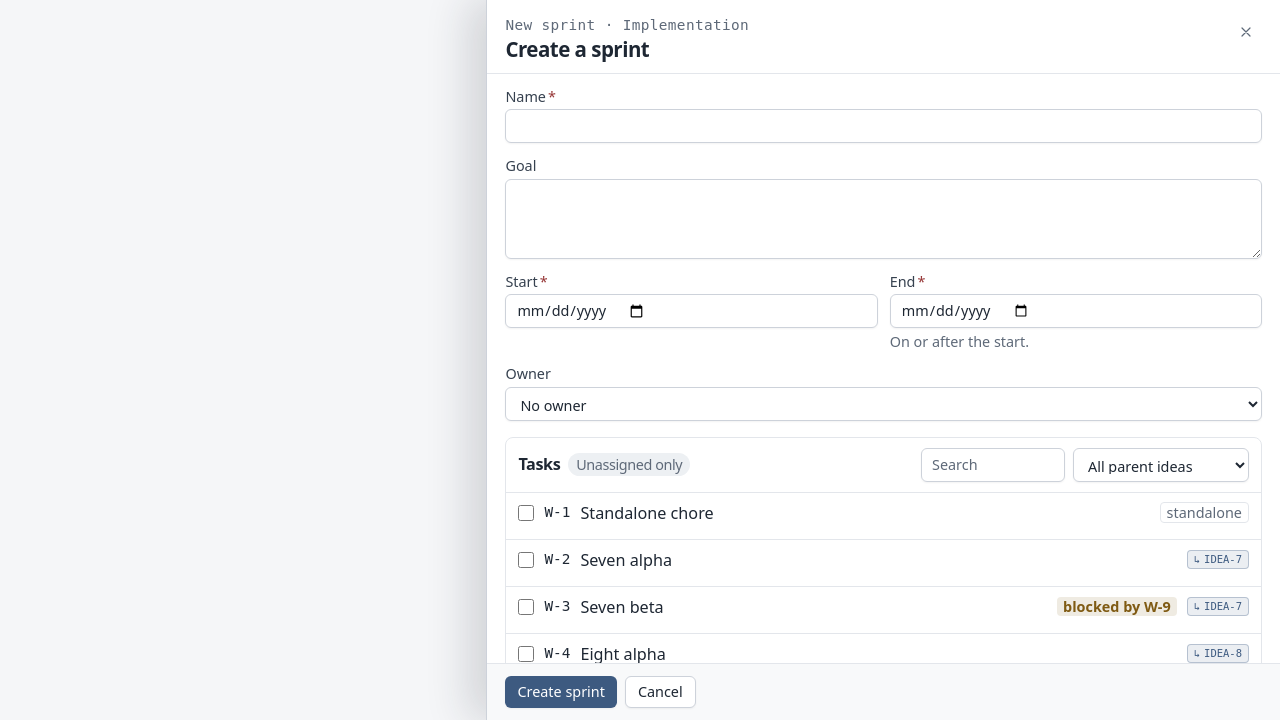
Test: SprintCreateDrawer footer › counts the ticked tasks, singular and plural
This screenshot has width=1280, height=720.
Click the checkbox labelled "W-2 Seven alpha ↳ IDEA-7": (526, 560) [518, 552, 534, 568]
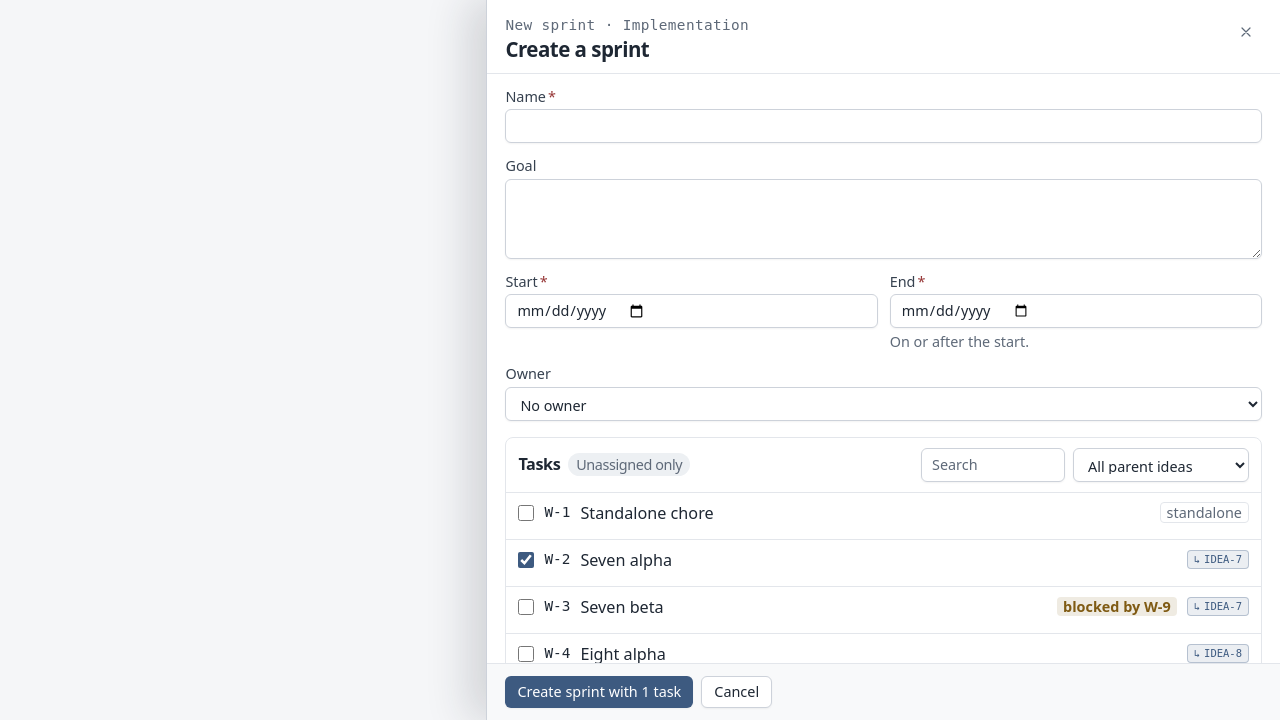
Now the button "Create sprint with 1 task" is shown, box [505, 676, 693, 708]
Click the checkbox labelled "W-4 Eight alpha ↳ IDEA-8": (526, 654) [518, 646, 534, 662]
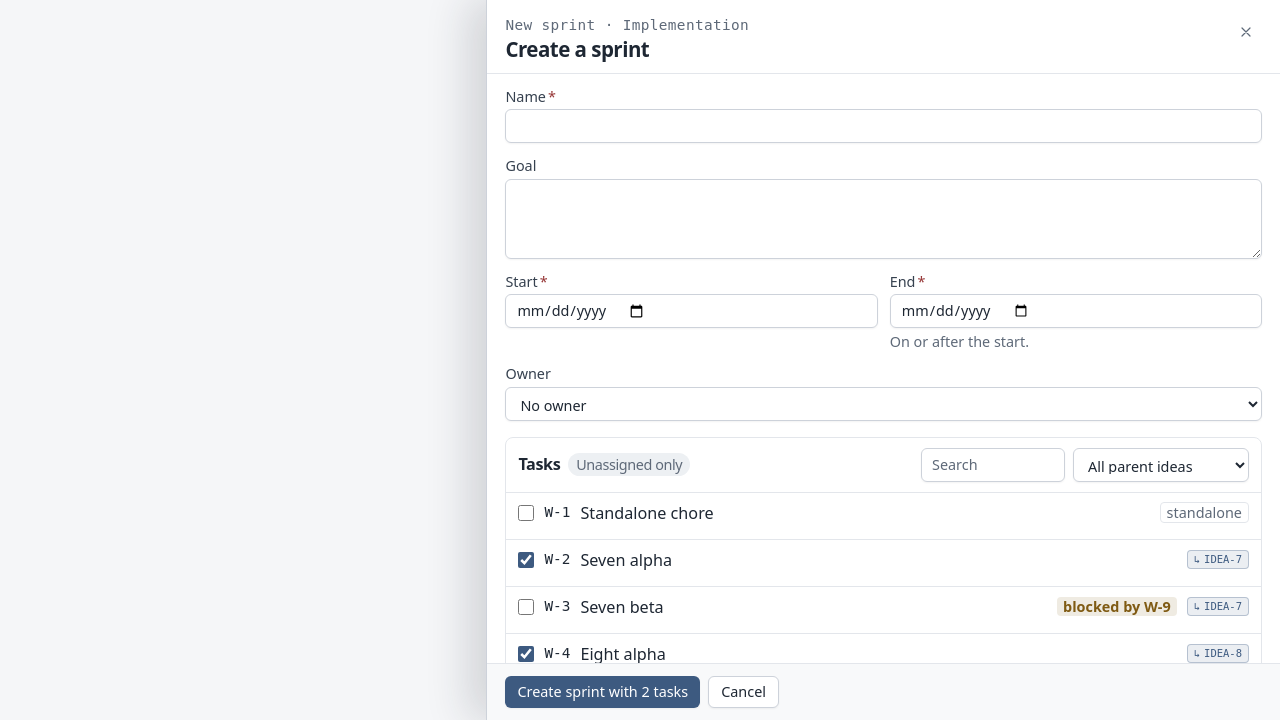
Now the button "Create sprint with 2 tasks" is shown, box [505, 676, 700, 708]
Click the checkbox labelled "W-4 Eight alpha ↳ IDEA-8": (526, 654) [518, 646, 534, 662]
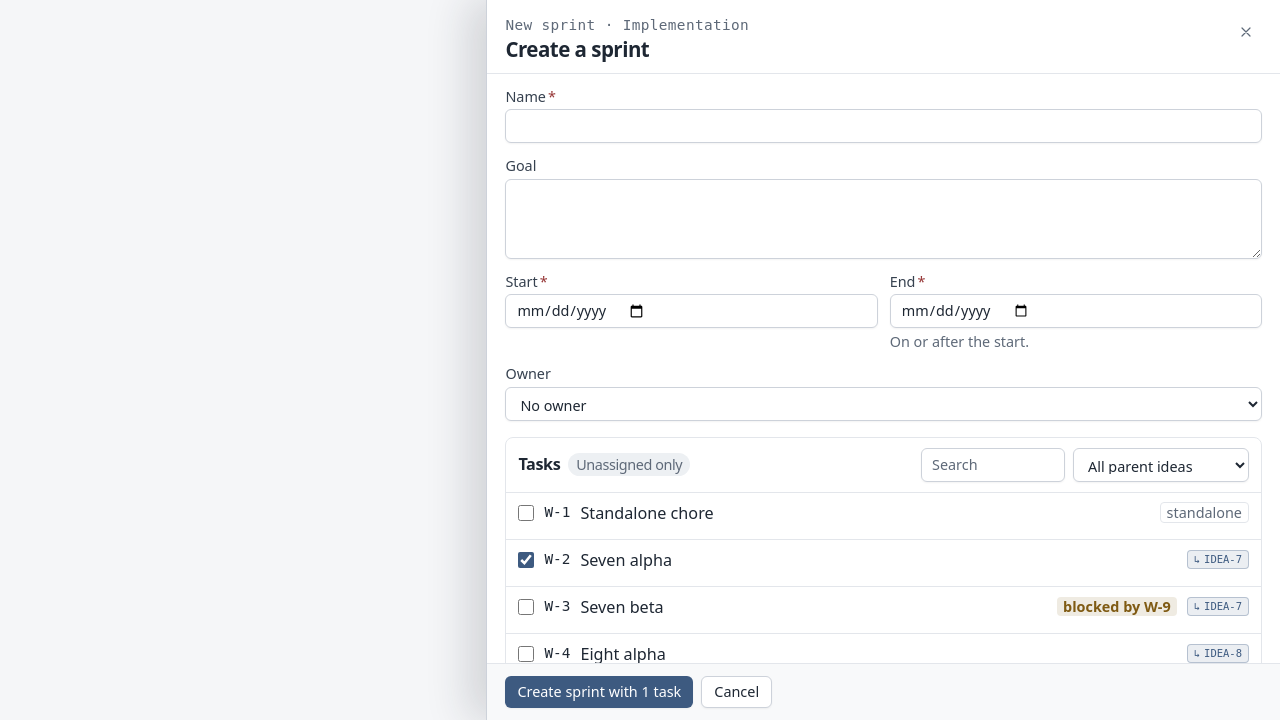
Now the button "Create sprint with 1 task" is shown, box [505, 676, 693, 708]
